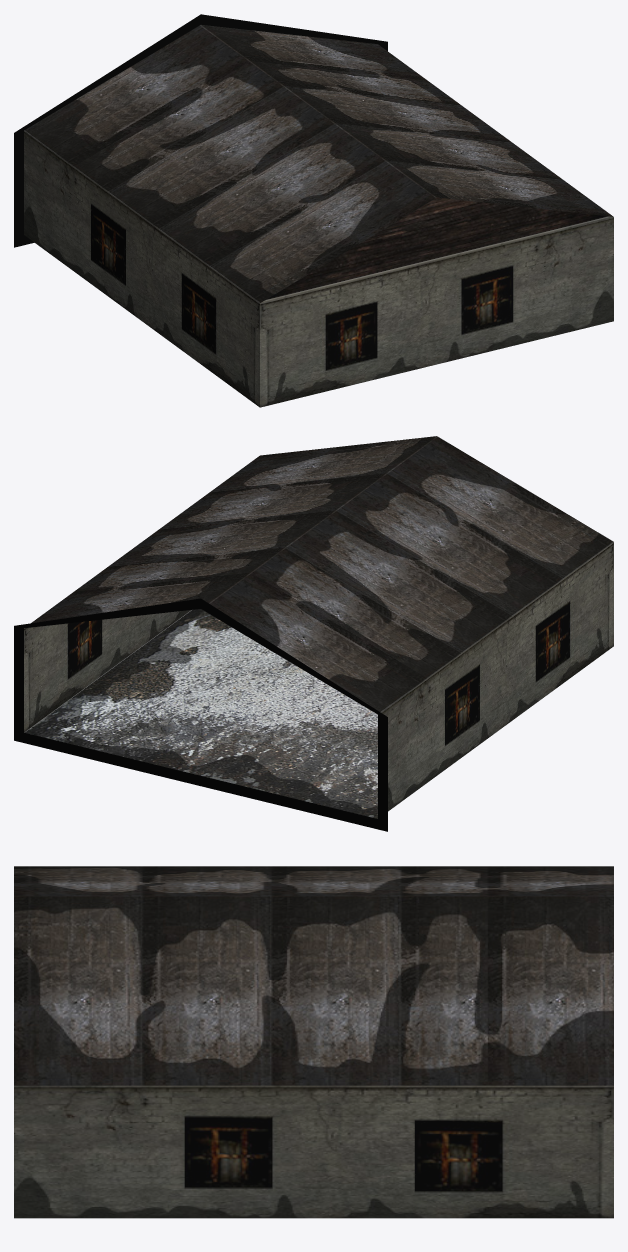
File: room_model.fbx
3 renders of one model, top to bottom at view 1: azimuth 30°, elevation 25°; view 2: azimuth 150°, elevation 25°; view 3: azimuth 270°, elevation 25°, orthographic. The views are drawn at different scales.
Visible parts, largest first — view 1: pCube1; view 2: pCube1; view 3: pCube1.
Part boxes in pixels (<box>): pCube1: <box>14,14,613,407</box>; pCube1: <box>14,436,613,831</box>; pCube1: <box>14,866,613,1218</box>.
Size of the model in its own units: 37.5 by 18 by 41.
1 material, 1 textured.
